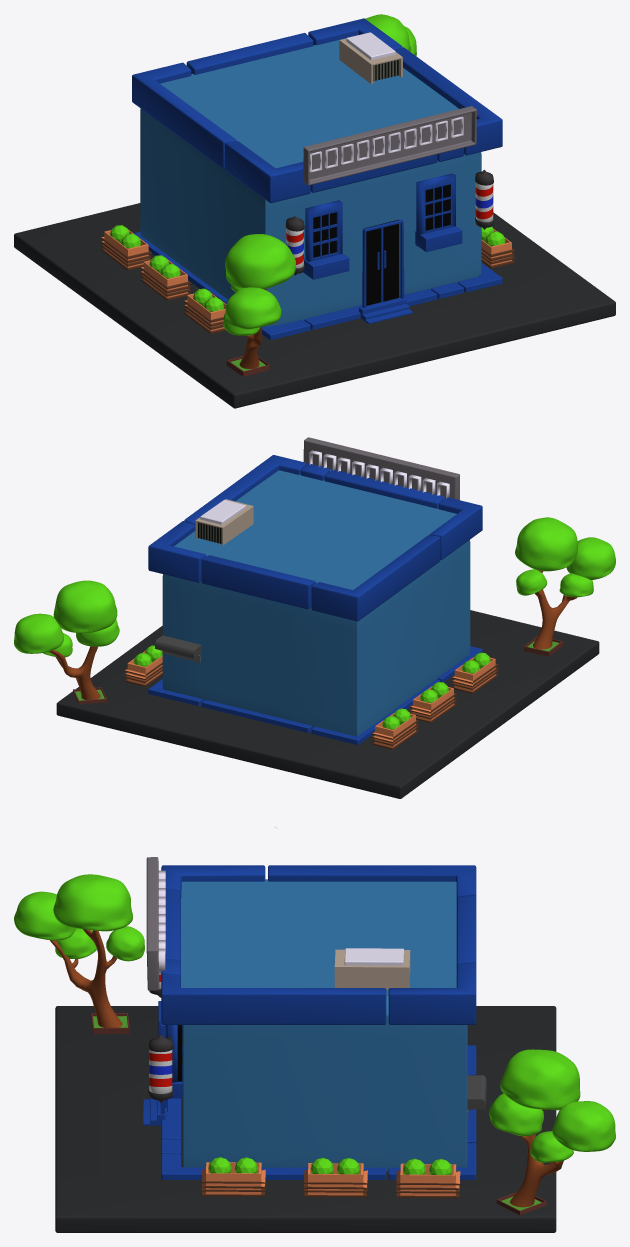
Rendered from house_19.glb.
3 renders of one model, top to bottom at view 1: azimuth 30°, elevation 25°; view 2: azimuth 150°, elevation 25°; view 3: azimuth 270°, elevation 25°, orthographic. The views are drawn at different scales.
Visible parts, largest first — view 1: Plane.008, Plane.001, Cube.001, Plane.002, Cube.022, Plane.004, Cube.006, Cube.013, Cube.008, Cube.014, Cube.002, Text.002 (+15 smaller); view 2: Plane.001, Plane.008, Cube.001, Plane.002, Cube.022, Cube.027, Cube.006, Plane.004, Cube.029, Cube.008, Text.002, Cube.009 (+11 smaller); view 3: Plane.008, Plane.001, Cube.001, Plane.002, Cube.027, Plane.004, Cube.006, Cube.029, Cube.087, Cube.009, Cube.008, Cube.209 (+13 smaller).
Boxes of the visible parts, left/top/right/bottom form: Plane.008: left=14, top=203, right=615, bottom=408; Plane.001: left=140, top=109, right=481, bottom=326; Cube.001: left=160, top=38, right=458, bottom=168; Plane.002: left=132, top=18, right=502, bottom=203; Cube.022: left=303, top=106, right=476, bottom=185; Plane.004: left=134, top=232, right=502, bottom=339; Cube.006: left=225, top=234, right=295, bottom=289; Cube.013: left=363, top=219, right=399, bottom=305; Cube.008: left=225, top=287, right=281, bottom=329; Cube.014: left=416, top=173, right=455, bottom=246; Cube.002: left=305, top=200, right=342, bottom=261; Text.002: left=309, top=116, right=463, bottom=172; Plane.001: left=162, top=540, right=470, bottom=736; Plane.008: left=56, top=610, right=599, bottom=798; Cube.001: left=174, top=470, right=456, bottom=589; Plane.002: left=148, top=455, right=482, bottom=621; Cube.022: left=303, top=437, right=459, bottom=500; Cube.027: left=53, top=580, right=117, bottom=633; Cube.006: left=515, top=517, right=577, bottom=571; Plane.004: left=148, top=646, right=482, bottom=744; Cube.029: left=14, top=613, right=63, bottom=653; Cube.008: left=566, top=537, right=615, bottom=579; Text.002: left=309, top=450, right=449, bottom=498; Cube.009: left=533, top=570, right=577, bottom=649; Plane.008: left=55, top=1006, right=556, bottom=1232; Plane.001: left=182, top=996, right=467, bottom=1171; Cube.001: left=181, top=879, right=456, bottom=995; Plane.002: left=161, top=865, right=476, bottom=1024; Cube.027: left=500, top=1049, right=580, bottom=1110; Plane.004: left=161, top=1045, right=476, bottom=1179; Cube.006: left=53, top=874, right=132, bottom=931; Cube.029: left=552, top=1101, right=615, bottom=1151; Cube.087: left=334, top=949, right=410, bottom=995; Cube.009: left=50, top=929, right=122, bottom=1027; Cube.008: left=14, top=891, right=76, bottom=940; Cube.209: left=201, top=1162, right=265, bottom=1196.
Bounding box in the file's own units: 2.94 × 2 × 3.2.
